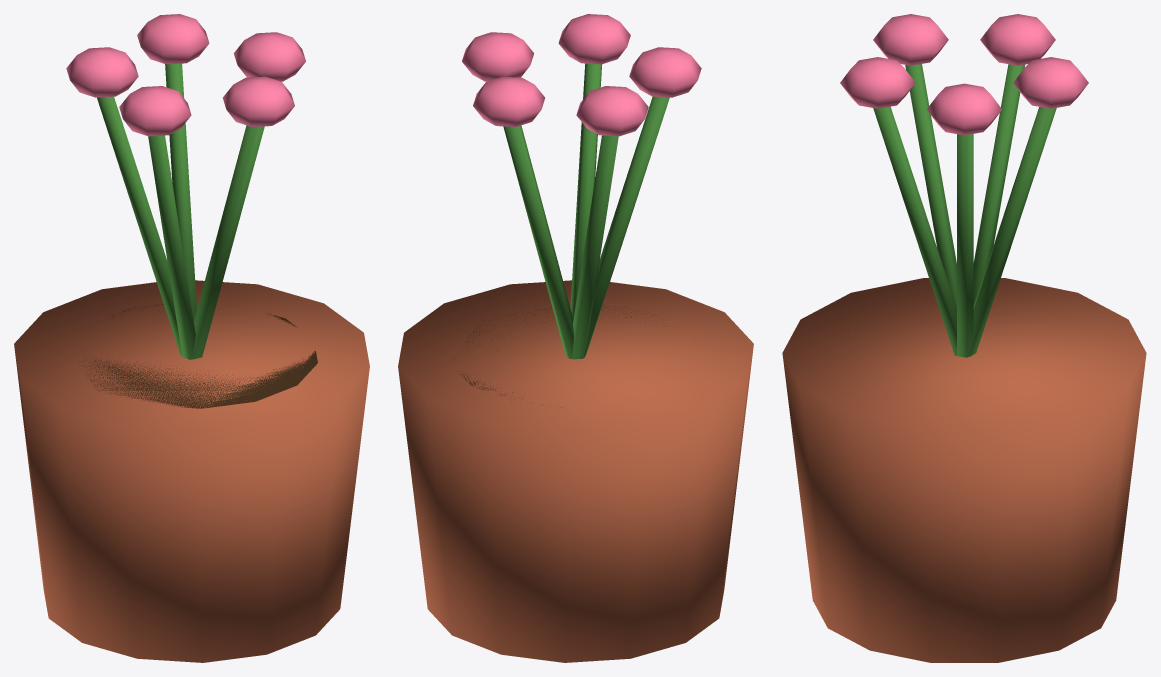
Rendered from flower_pot.glb.
3 views of the same model, side by side, from view 1: azimuth 30°, elevation 25°; view 2: azimuth 150°, elevation 25°; view 3: azimuth 270°, elevation 25° (orthographic).
Parts seen in each view (by area): view 1: FlowerPot; view 2: FlowerPot; view 3: FlowerPot.
Boxes of the visible parts, x1=… form: FlowerPot: x1=14, y1=14, x2=369, y2=662; FlowerPot: x1=398, y1=14, x2=753, y2=662; FlowerPot: x1=782, y1=14, x2=1146, y2=662.
Size of the model in its own units: 0.468 by 0.8 by 0.48.
